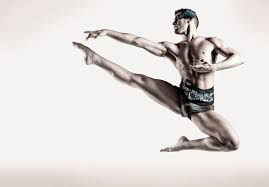Person: (71, 7, 249, 155)
